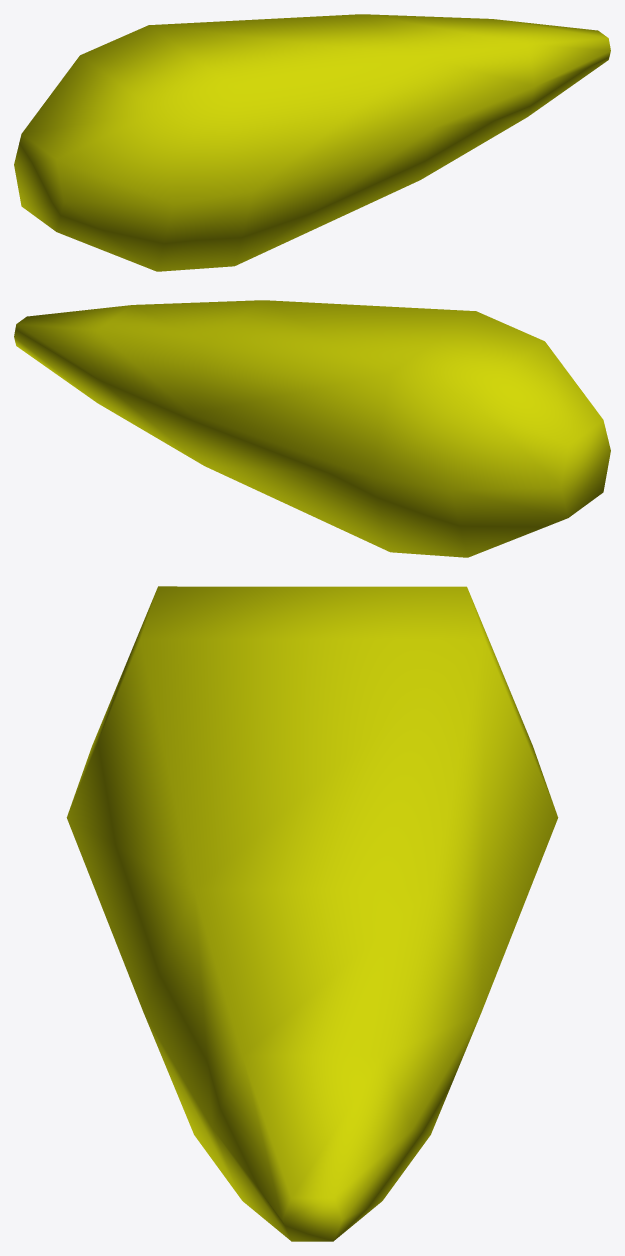
The model's file is tank bullet.fbx.
3 renders of one model, top to bottom at view 1: azimuth 30°, elevation 25°; view 2: azimuth 150°, elevation 25°; view 3: azimuth 270°, elevation 25°, orthographic. The views are drawn at different scales.
Parts seen in each view (by area): view 1: tank_bullet; view 2: tank_bullet; view 3: tank_bullet.
Part boxes in pixels (bbox=[...]): tank_bullet: bbox=[14, 14, 610, 271]; tank_bullet: bbox=[14, 300, 610, 557]; tank_bullet: bbox=[66, 586, 558, 1241].
Bounding box in the file's own units: 1.17 × 0.3537 × 0.4421.
